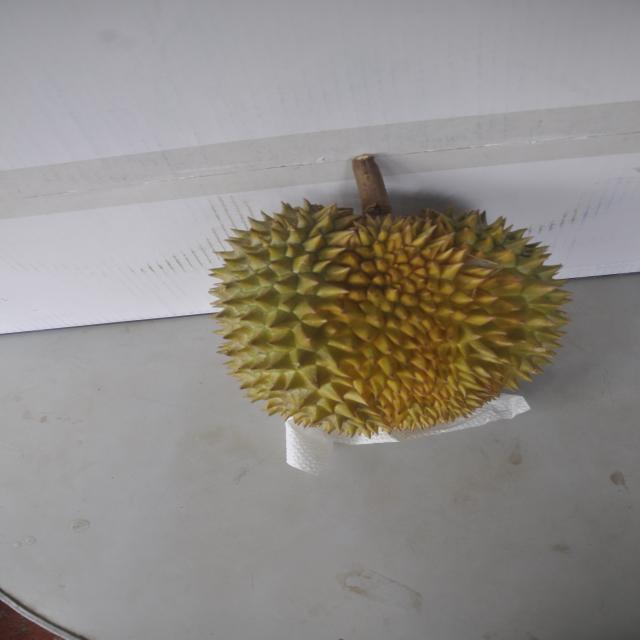mature: (204, 189, 566, 437)
